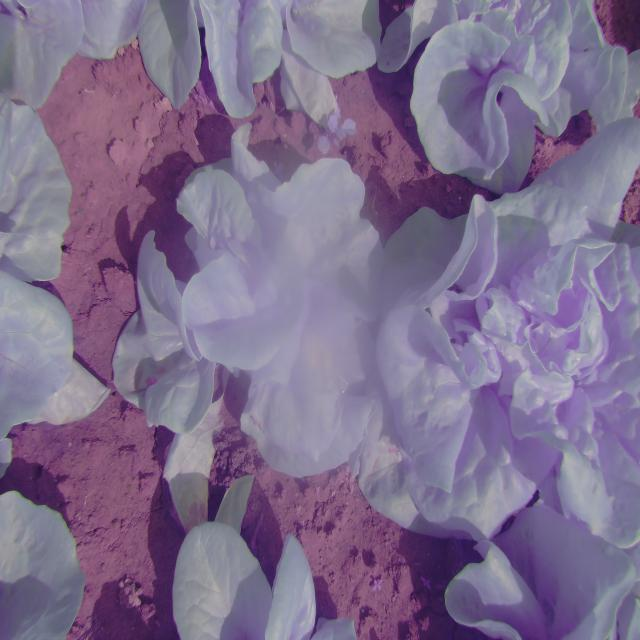vege: (117, 142, 391, 480)
